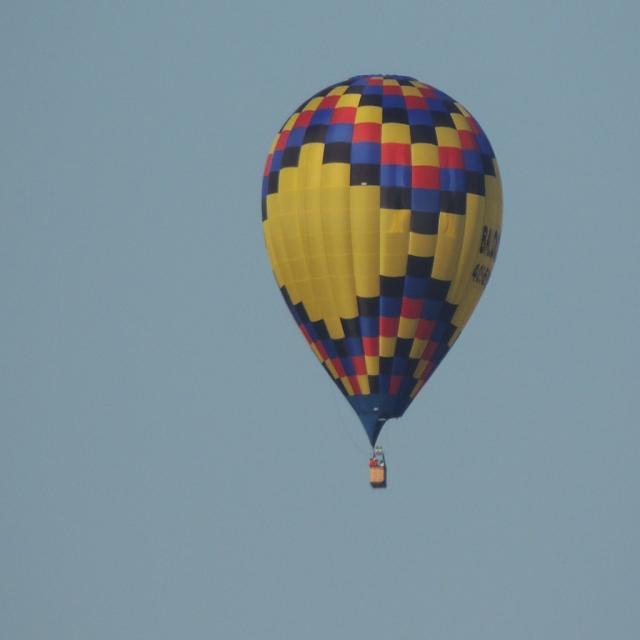balloon: (260, 72, 505, 489)
